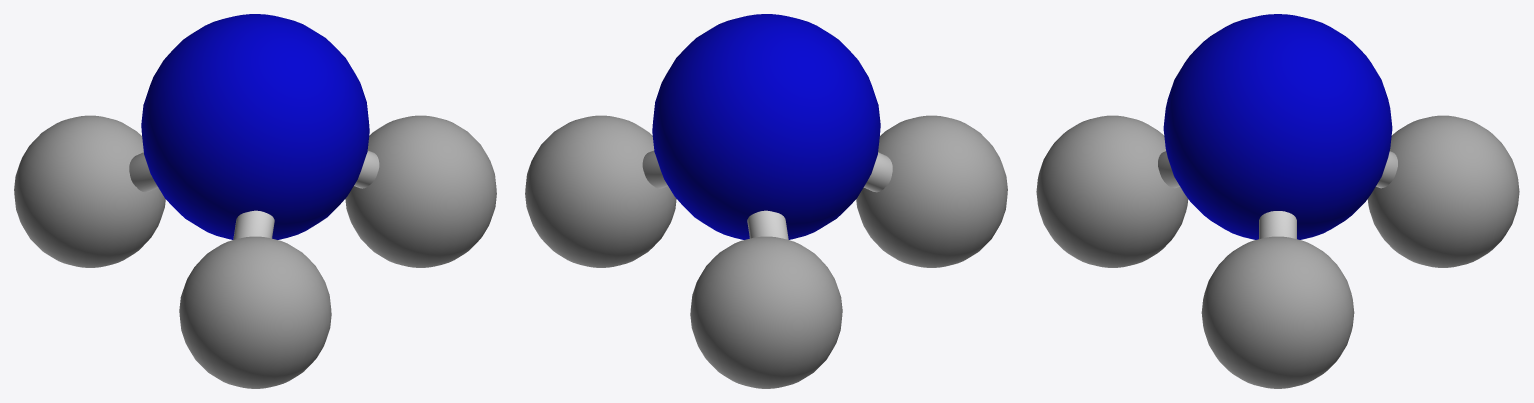
The picture shows the model from 3 angles, left to right: view 1: azimuth 30°, elevation 25°; view 2: azimuth 150°, elevation 25°; view 3: azimuth 270°, elevation 25°; orthographic projection.
Visible parts, largest first — view 1: Esfera.005_Esfera.014, Esfera.008_Esfera.017, Esfera.006_Esfera.015, Esfera.007_Esfera.016, Cilindro.006_Cilindro.012, Cilindro.005_Cilindro.011, Cilindro.004_Cilindro.010; view 2: Esfera.005_Esfera.014, Esfera.007_Esfera.016, Esfera.006_Esfera.015, Esfera.008_Esfera.017, Cilindro.005_Cilindro.011, Cilindro.006_Cilindro.012, Cilindro.004_Cilindro.010; view 3: Esfera.005_Esfera.014, Esfera.006_Esfera.015, Esfera.008_Esfera.017, Esfera.007_Esfera.016, Cilindro.004_Cilindro.010, Cilindro.006_Cilindro.012, Cilindro.005_Cilindro.011.
Boxes of the visible parts, x1,y1,x2,y2 form: Esfera.005_Esfera.014: (141, 14, 369, 239); Esfera.008_Esfera.017: (179, 236, 331, 388); Esfera.006_Esfera.015: (345, 115, 496, 267); Esfera.007_Esfera.016: (14, 115, 165, 267); Cilindro.006_Cilindro.012: (233, 210, 274, 239); Cilindro.005_Cilindro.011: (129, 152, 158, 192); Cilindro.004_Cilindro.010: (354, 150, 379, 188); Esfera.005_Esfera.014: (652, 14, 880, 239); Esfera.007_Esfera.016: (690, 236, 842, 388); Esfera.006_Esfera.015: (525, 115, 676, 267); Esfera.008_Esfera.017: (856, 115, 1007, 267); Cilindro.005_Cilindro.011: (747, 210, 788, 239); Cilindro.006_Cilindro.012: (863, 152, 892, 192); Cilindro.004_Cilindro.010: (642, 150, 667, 188); Esfera.005_Esfera.014: (1163, 14, 1392, 239); Esfera.006_Esfera.015: (1201, 236, 1354, 388); Esfera.008_Esfera.017: (1036, 115, 1188, 267); Esfera.007_Esfera.016: (1367, 115, 1519, 267); Cilindro.004_Cilindro.010: (1259, 211, 1296, 238); Cilindro.006_Cilindro.012: (1158, 151, 1179, 188); Cilindro.005_Cilindro.011: (1376, 151, 1397, 188).
Bounding box in the file's own units: 2.3 × 1.6 × 2.53.
